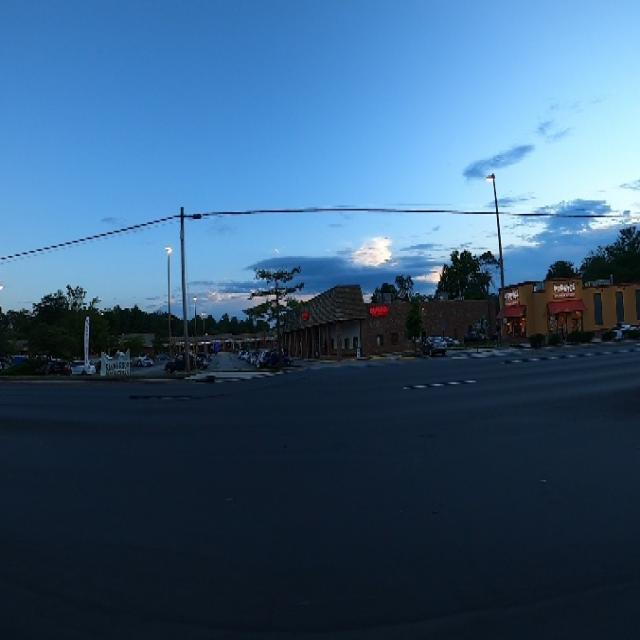cars: (62, 350, 96, 380), (256, 345, 292, 372), (164, 351, 200, 374), (420, 331, 447, 358), (442, 333, 459, 349)
